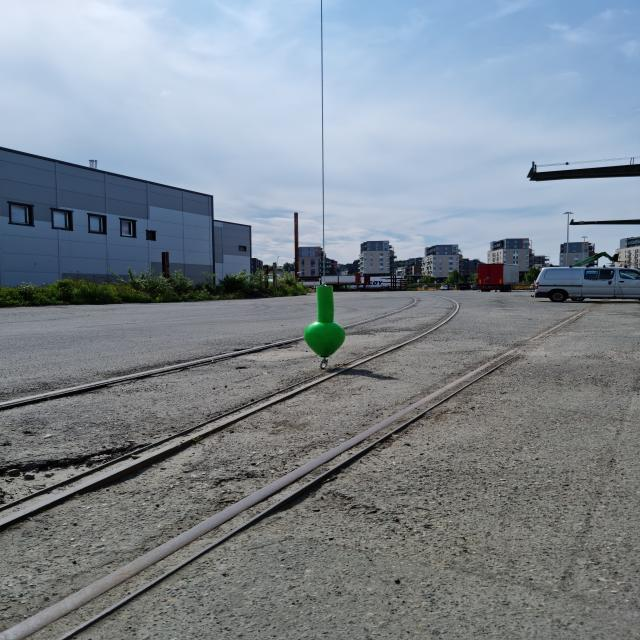green: (306, 284, 344, 358)
